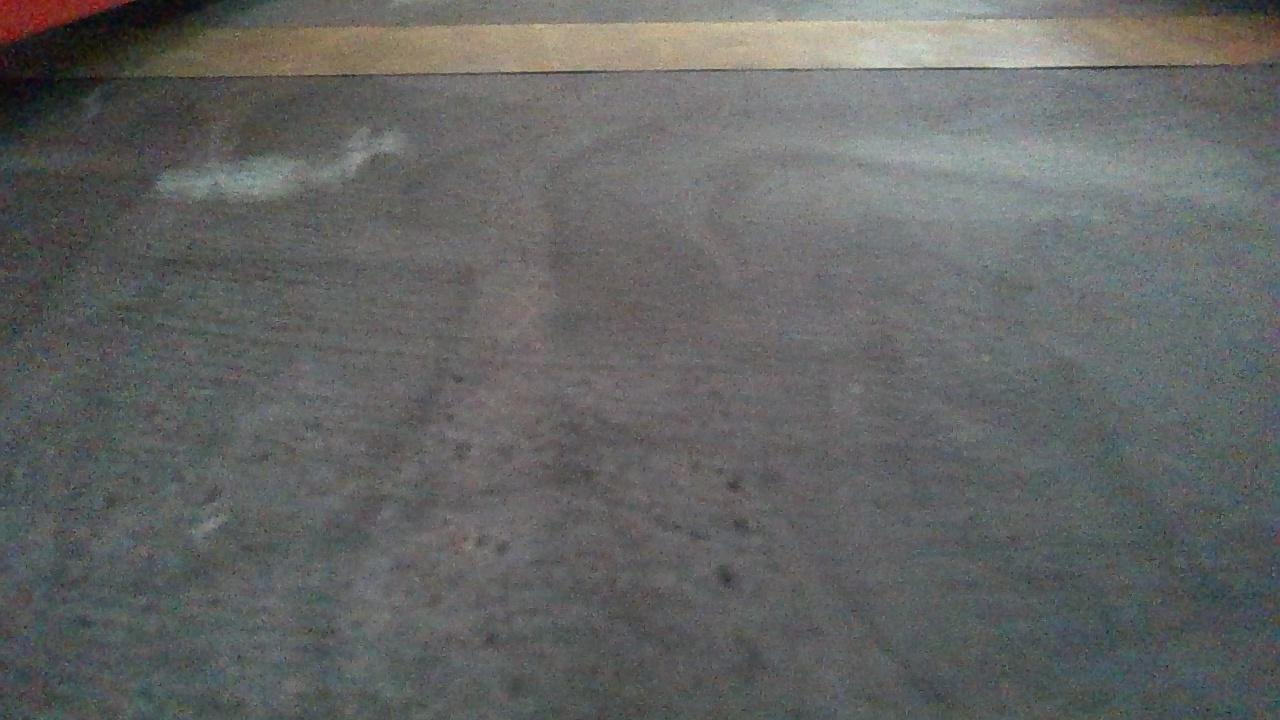yellow_line: (25, 14, 1278, 74)
